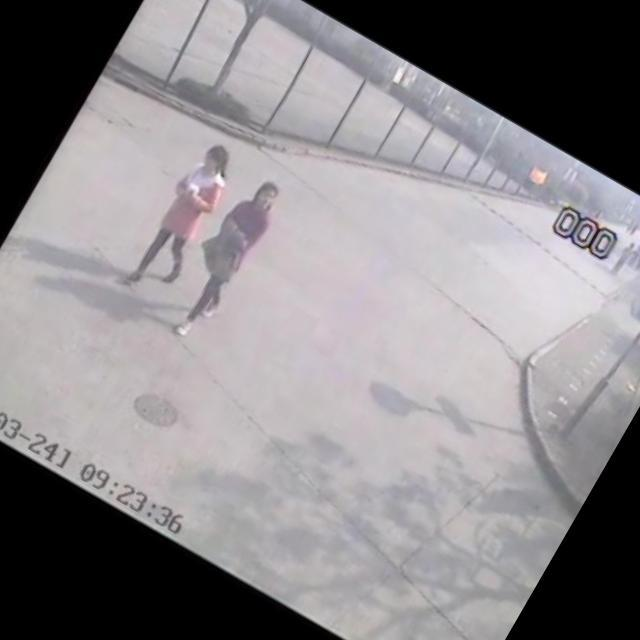person: (151, 164, 294, 354), (117, 133, 250, 309)
